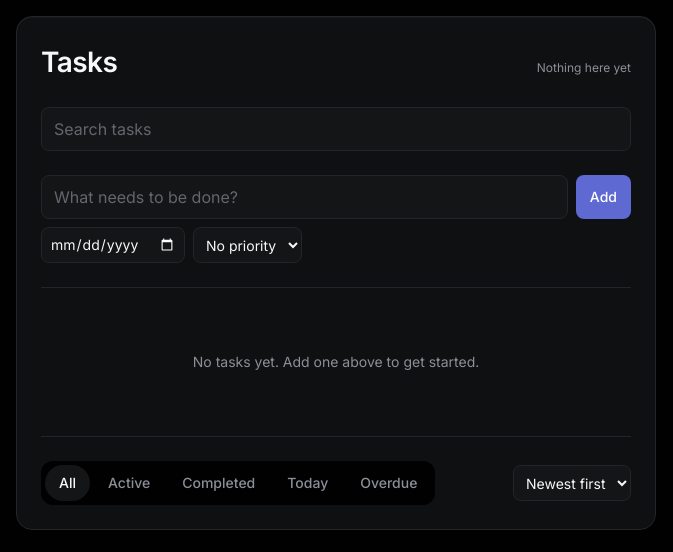
Test: todo app › searches tasks by text
In the field named "New task": x=304, y=197 [41,175,568,219], type "Buy milk"
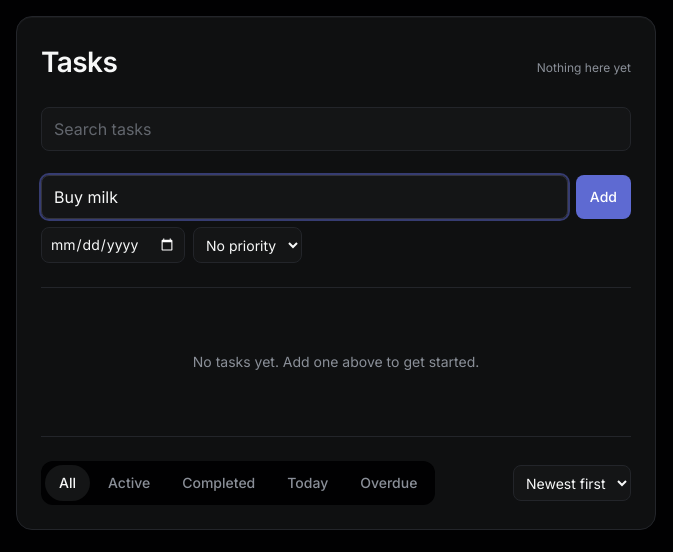
Click the button "Add": x=603, y=197 [576,175,631,219]
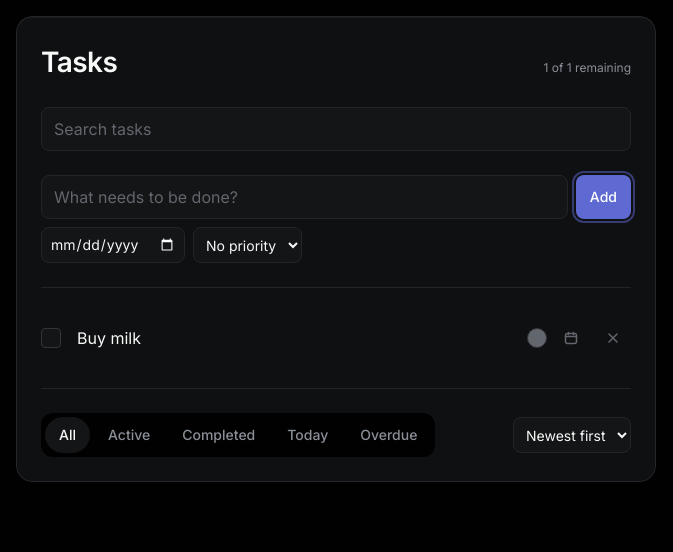
In the field named "New task": x=304, y=197 [41,175,568,219], type "Walk dog"
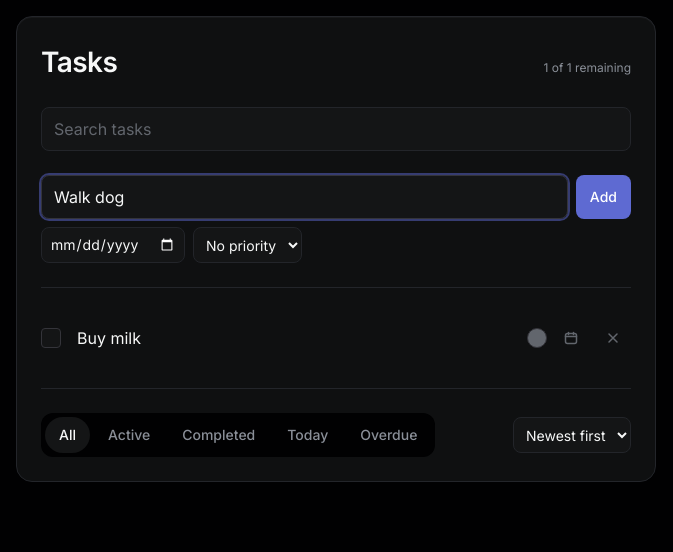
Click the button "Add": x=603, y=197 [576,175,631,219]
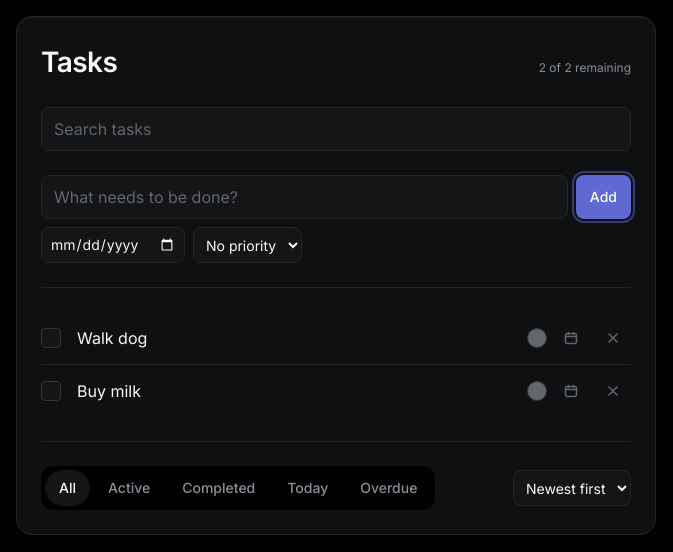
In the search field labelled "Search tasks": x=336, y=129 [41,107,631,151], type "milk"
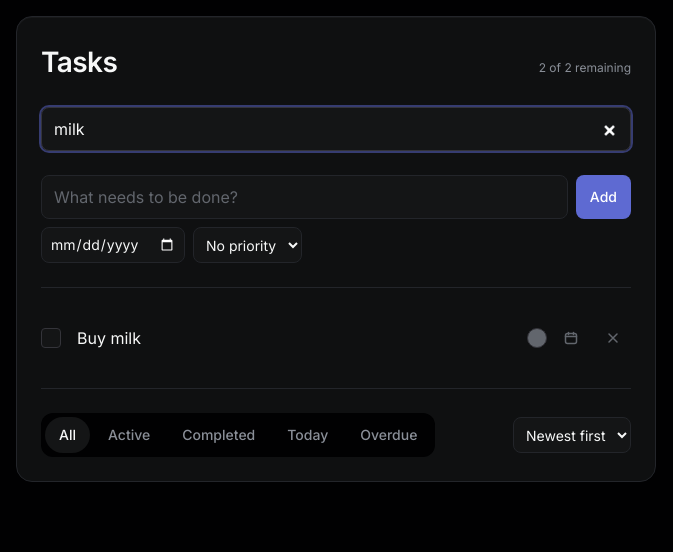
Now the button "Buy milk" is shown, box [69,320,519,356]
Now the button "Walk dog" is gone
